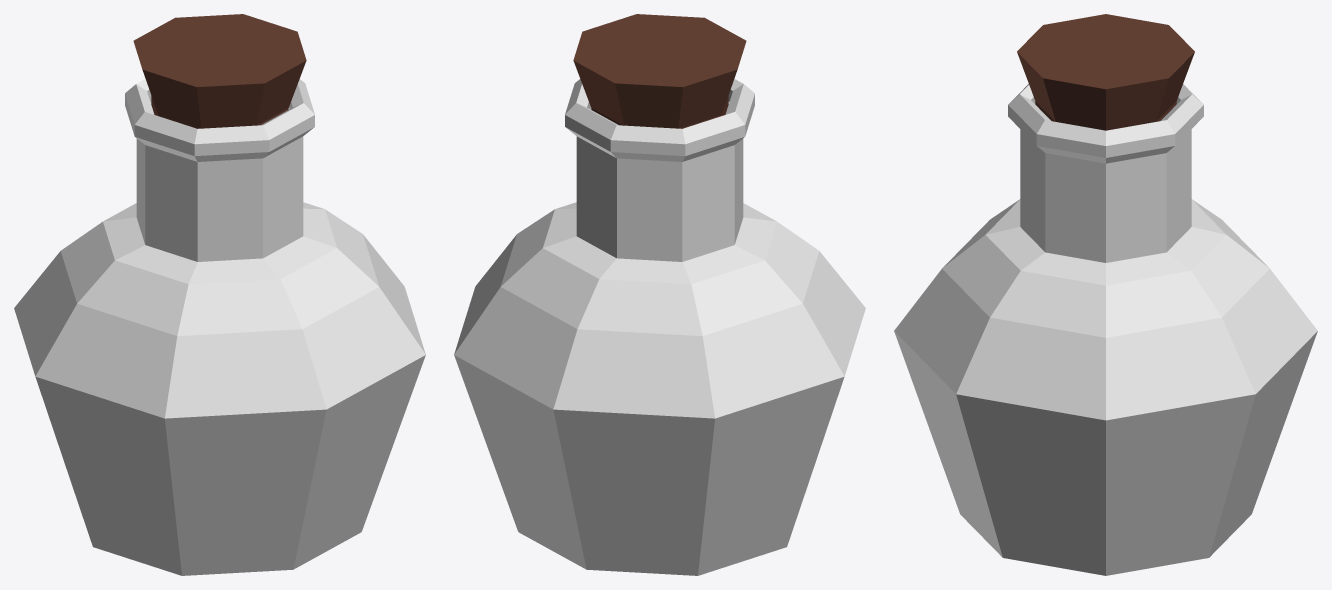
File: m_Item_medi01.FBX
3 renders of one model, left to right at view 1: azimuth 30°, elevation 25°; view 2: azimuth 150°, elevation 25°; view 3: azimuth 270°, elevation 25°, orthographic.
Visible parts, largest first — view 1: Cylinder, Cylinder.001; view 2: Cylinder, Cylinder.001; view 3: Cylinder, Cylinder.001.
Part boxes in pixels (bbox=[...]): Cylinder: bbox=[14, 79, 425, 575]; Cylinder.001: bbox=[133, 14, 306, 128]; Cylinder: bbox=[454, 79, 865, 575]; Cylinder.001: bbox=[573, 14, 746, 128]; Cylinder: bbox=[894, 84, 1317, 575]; Cylinder.001: bbox=[1017, 14, 1194, 130].
Size of the model in its own units: 23.02 by 27.73 by 23.02.
